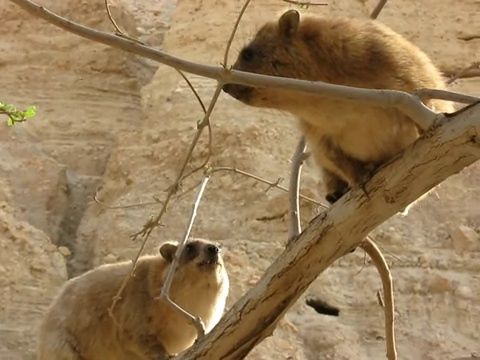Rock Hyrex: (216, 8, 455, 203), (34, 240, 228, 360)
